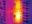Hotspot: (15, 1, 21, 23)
